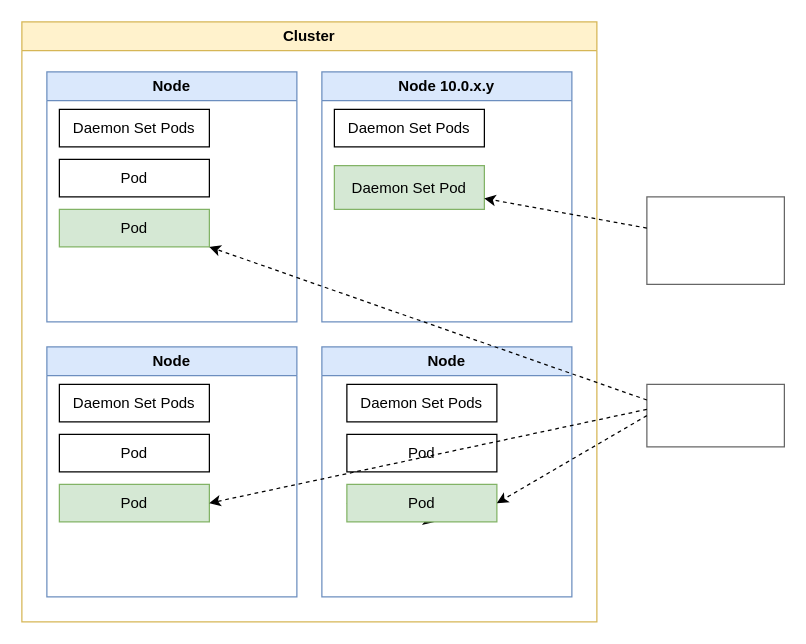
This 806x644 diagram has some shape labels left out. Each missing label, with the centre of its shape:
"Pods evicted from node 10.0.x.y" belongs at (x=715, y=415).
"Unschedulable Daemon Set Pod finally scheduled" belongs at (x=715, y=240).
